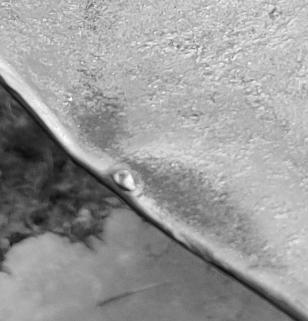dent: (1, 1, 308, 321)
